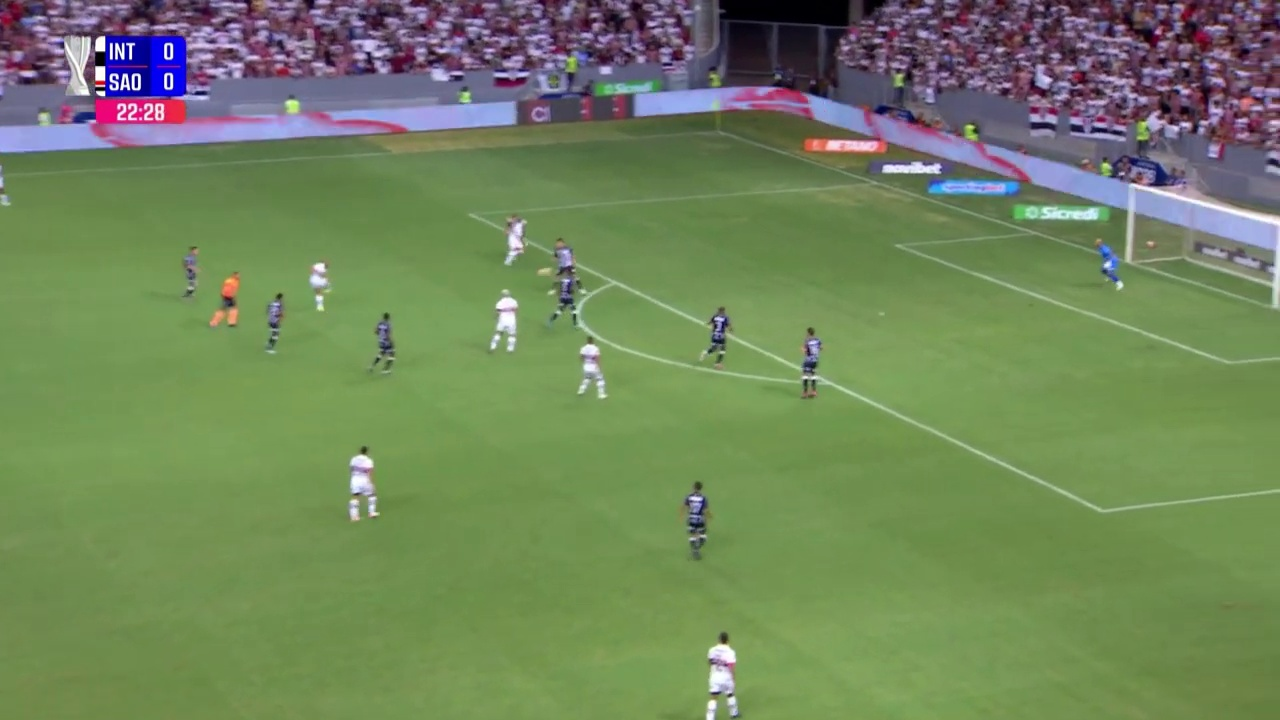ball: (554, 276, 570, 291)
